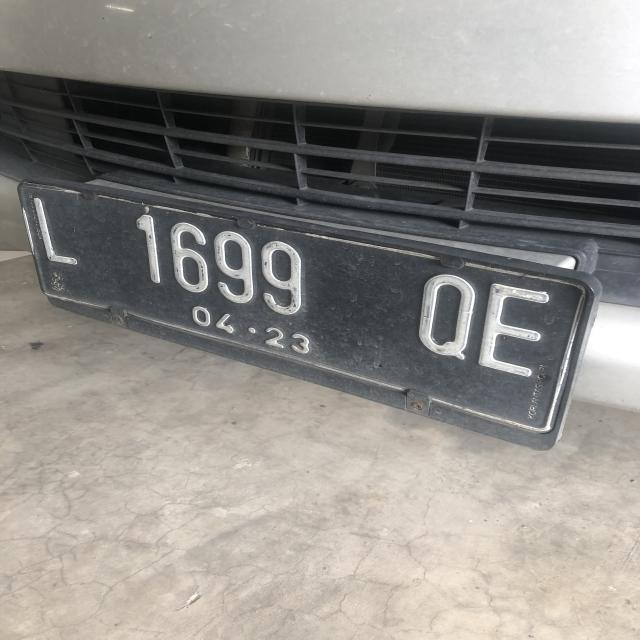1: (128, 210, 164, 284)
6: (166, 222, 212, 296)
9: (260, 236, 304, 314), (213, 230, 255, 306)
E: (479, 283, 556, 381)
L: (32, 192, 82, 272)
Q: (417, 270, 479, 364)
